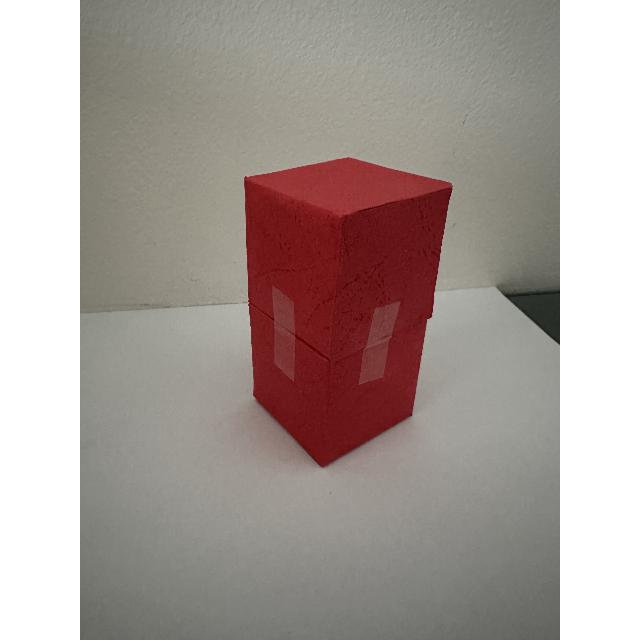red_cube: (237, 142, 463, 478)
